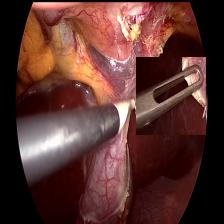Grasper: (135, 56, 204, 133)
Hook: (110, 94, 140, 132)
